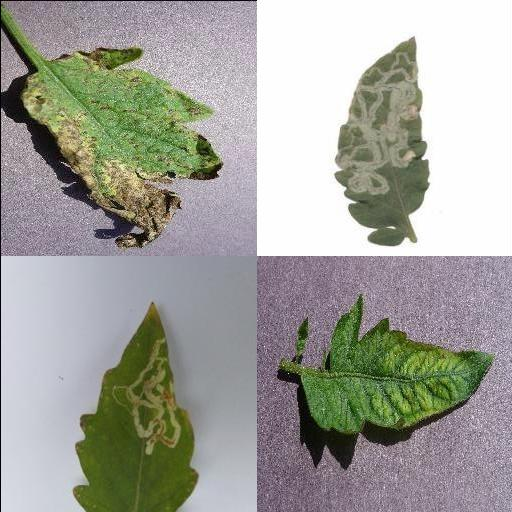Leaf Miner: (71, 302, 200, 512), (332, 37, 430, 247)
Mosaic Virus: (300, 294, 492, 438)
Septoria: (20, 47, 222, 249)
